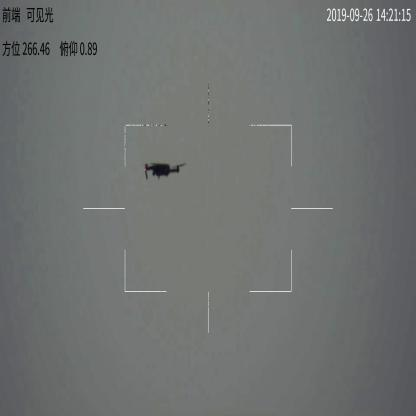uav: (140, 158, 188, 184)
